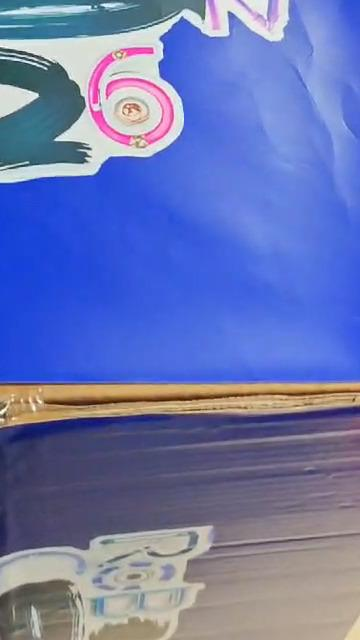B_R1: (0, 0, 305, 191)
